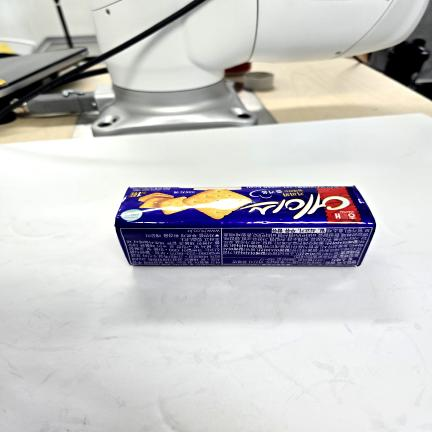cracker_ace: (112, 185, 376, 266)
